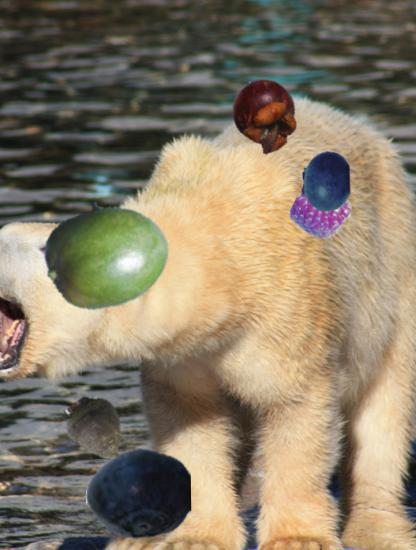Beetroot: (59, 392, 141, 474)
Blueberry: (86, 441, 192, 547)
Huckleberry: (295, 151, 357, 213)
Mango: (43, 190, 171, 318)
Mangostan: (228, 78, 304, 154)
Raspberry: (293, 183, 350, 240)
